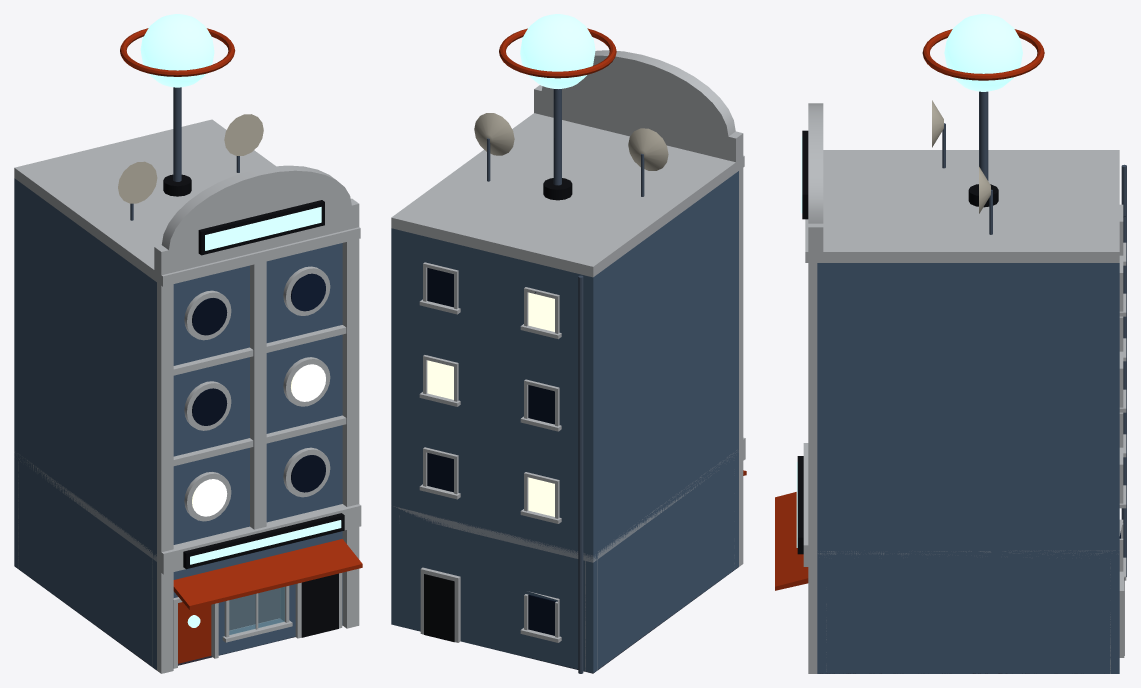
The model's file is row_bulb.glb.
3 views of the same model, side by side, from view 1: azimuth 30°, elevation 25°; view 2: azimuth 150°, elevation 25°; view 3: azimuth 270°, elevation 25° (orthographic). The views are drawn at different scales.
Visible parts, largest first — view 1: row_bulb, door_shop_leaf; view 2: row_bulb; view 3: row_bulb.
Boxes of the visible parts, <box> form: row_bulb: <box>14,14,362,673</box>; door_shop_leaf: <box>178,602,211,663</box>; row_bulb: <box>391,14,746,673</box>; row_bulb: <box>775,14,1126,673</box>.
Size of the model in its own units: 8 by 22.1 by 11.64.
